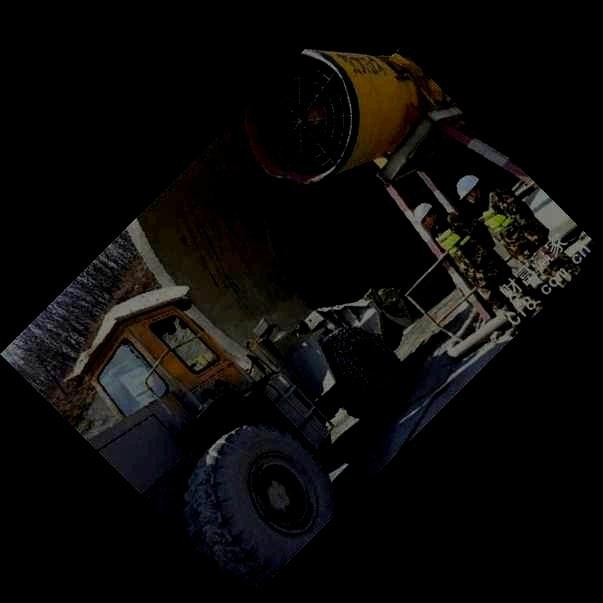helmet: (456, 175, 479, 203), (413, 203, 433, 228)
